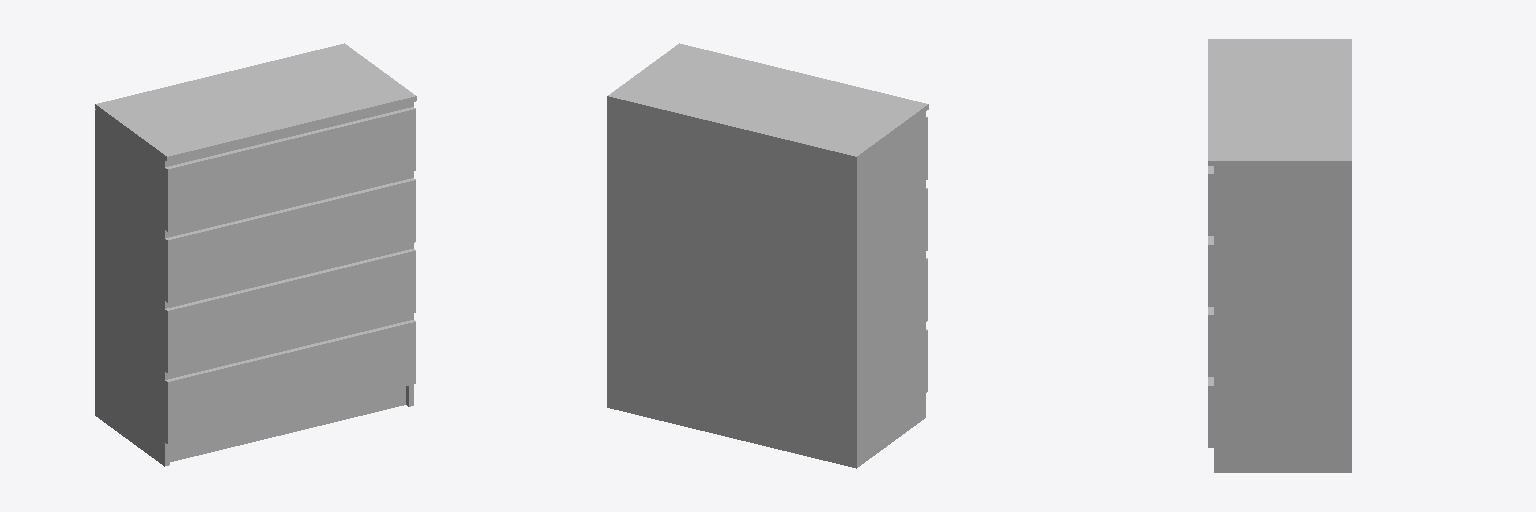
File: TRANBJERGx4.obj
3 renders of one model, left to right at view 1: azimuth 30°, elevation 25°; view 2: azimuth 150°, elevation 25°; view 3: azimuth 270°, elevation 25°, orthographic.
Parts seen in each view (by area): view 1: Cube.009_Cube.010, cube_Plane; view 2: cube_Plane; view 3: cube_Plane, Cube.009_Cube.010.
Boxes of the visible parts, x1,y1,x2,y2 form: Cube.009_Cube.010: [165, 107, 415, 443]; cube_Plane: [95, 43, 416, 466]; cube_Plane: [607, 43, 928, 468]; cube_Plane: [1208, 39, 1351, 472]; Cube.009_Cube.010: [1208, 166, 1213, 447].
Bounding box in the file's own units: 1.6 × 1.91 × 0.8.